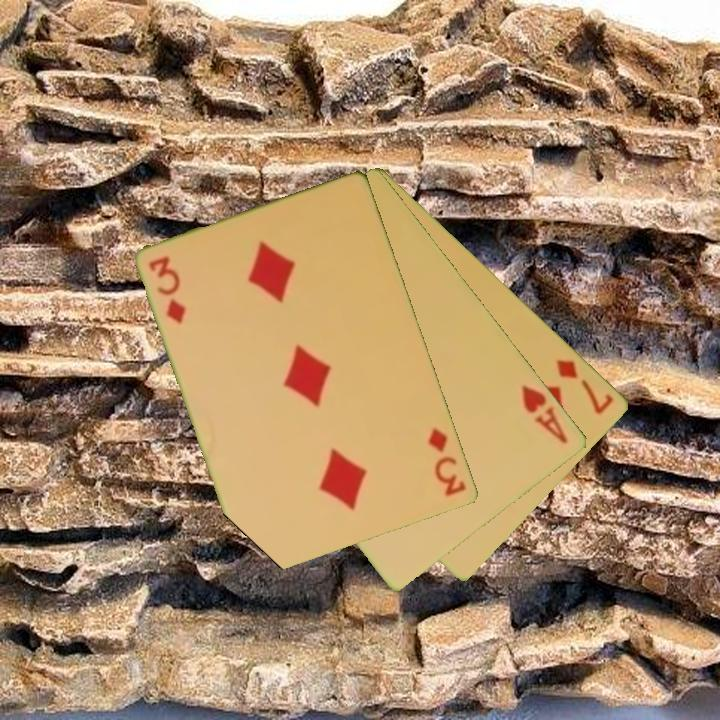3d: (425, 424, 470, 500), (146, 252, 190, 327)
7d: (553, 355, 617, 417)
Ah: (518, 381, 572, 447)
